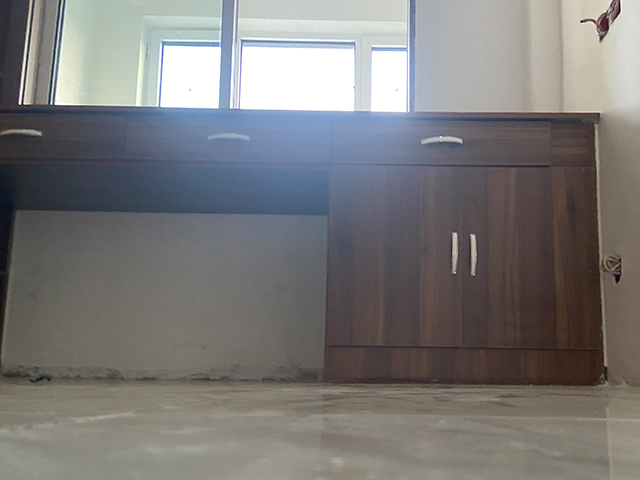cabinet: (1, 103, 605, 388)
